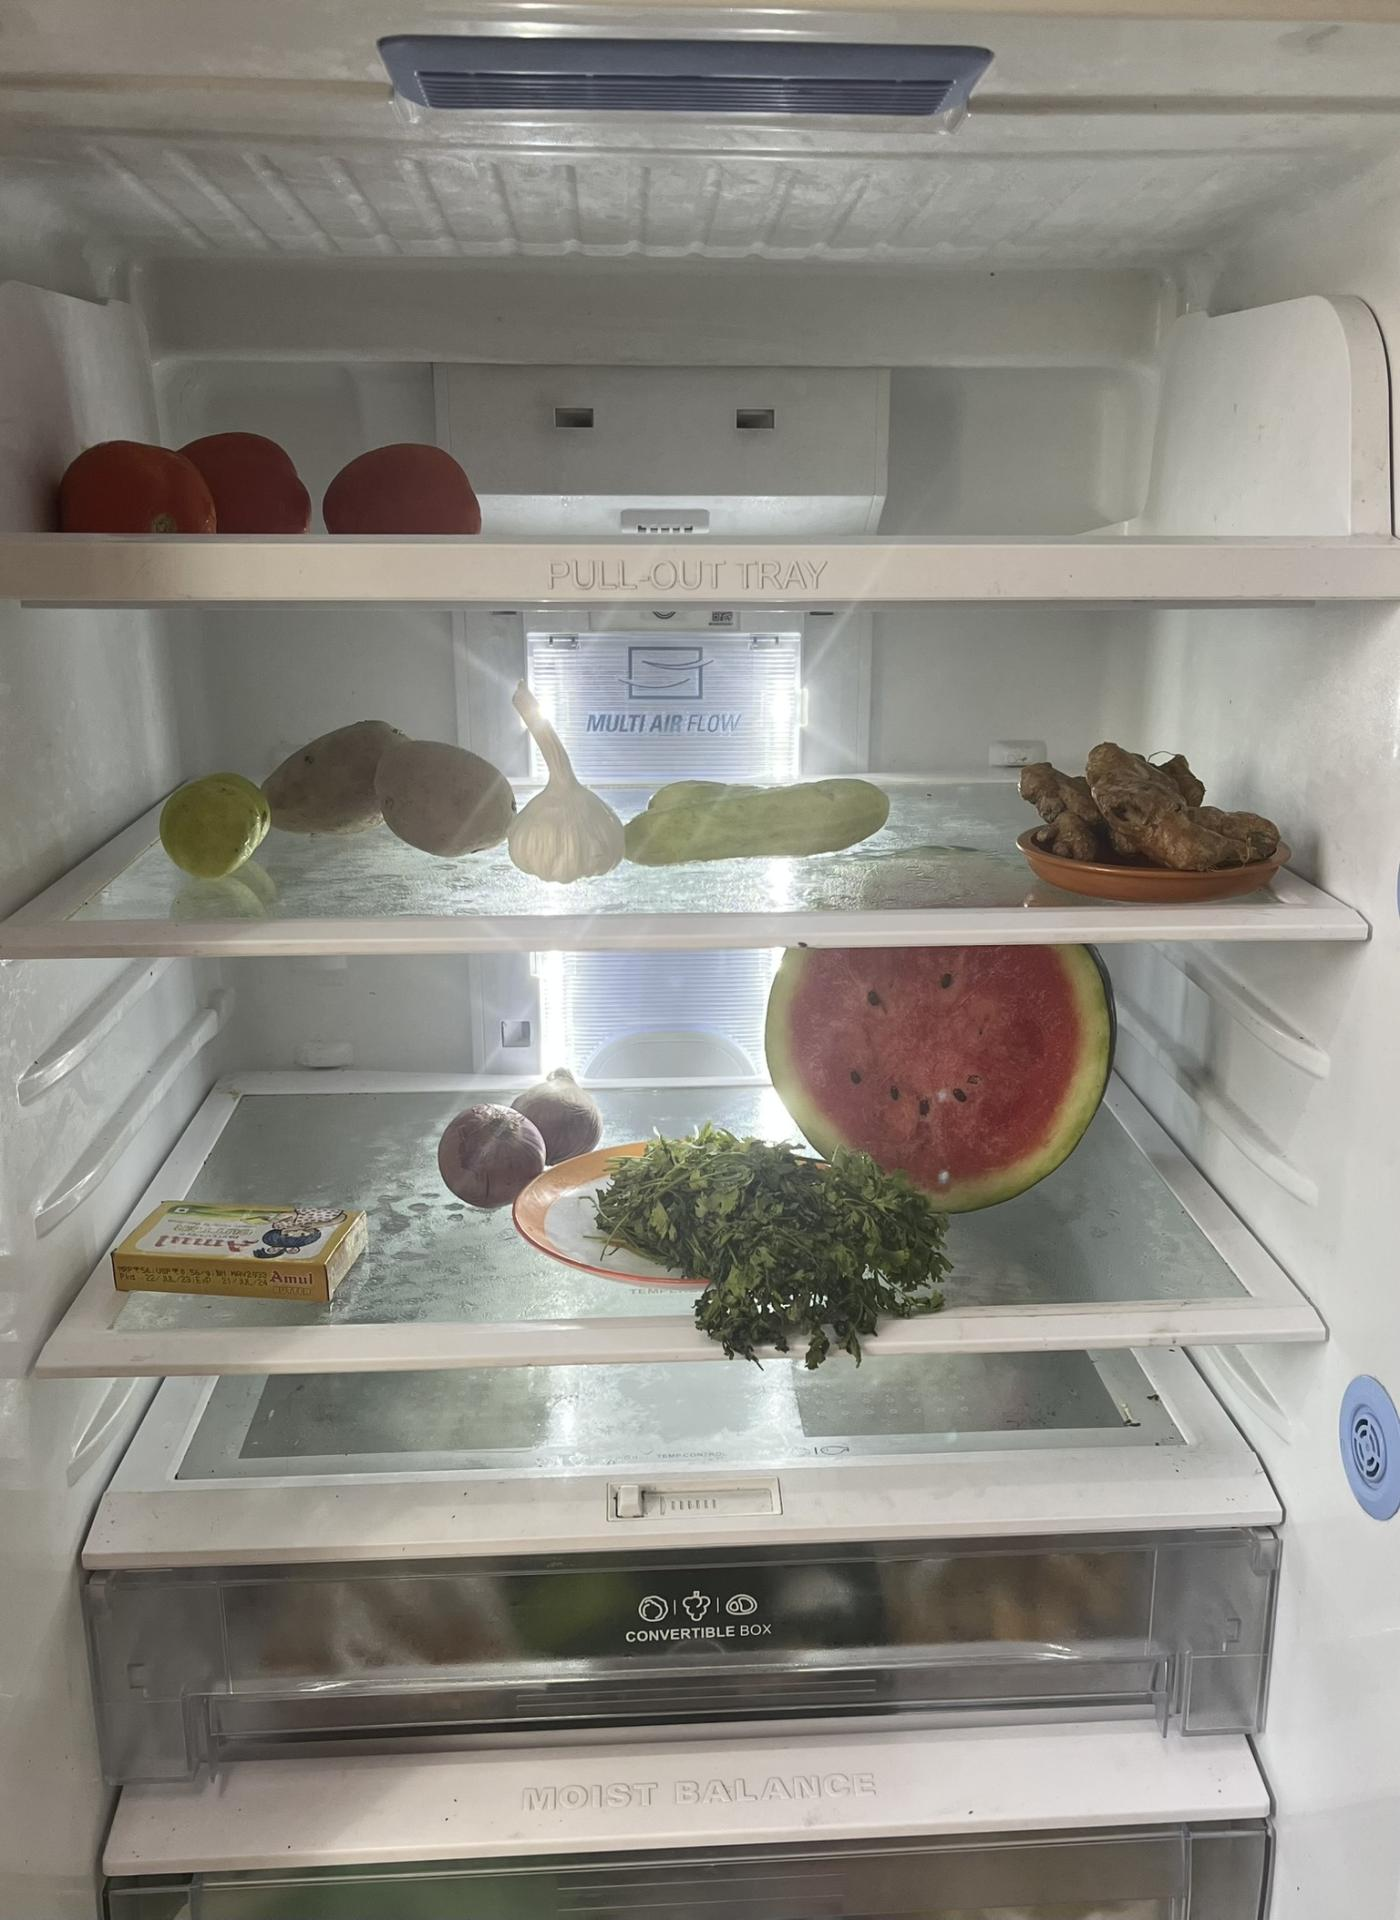butter: (106, 1197, 380, 1306)
coriander: (599, 1134, 972, 1331)
cucumber: (626, 778, 899, 866)
garlic: (495, 675, 632, 881)
ginger: (1012, 738, 1294, 875)
lemon: (161, 762, 277, 875)
onion: (443, 1072, 589, 1216)
pumpkin: (255, 719, 517, 859)
tomato: (61, 422, 310, 528), (319, 441, 483, 538)
watermelon: (769, 950, 1112, 1219)
